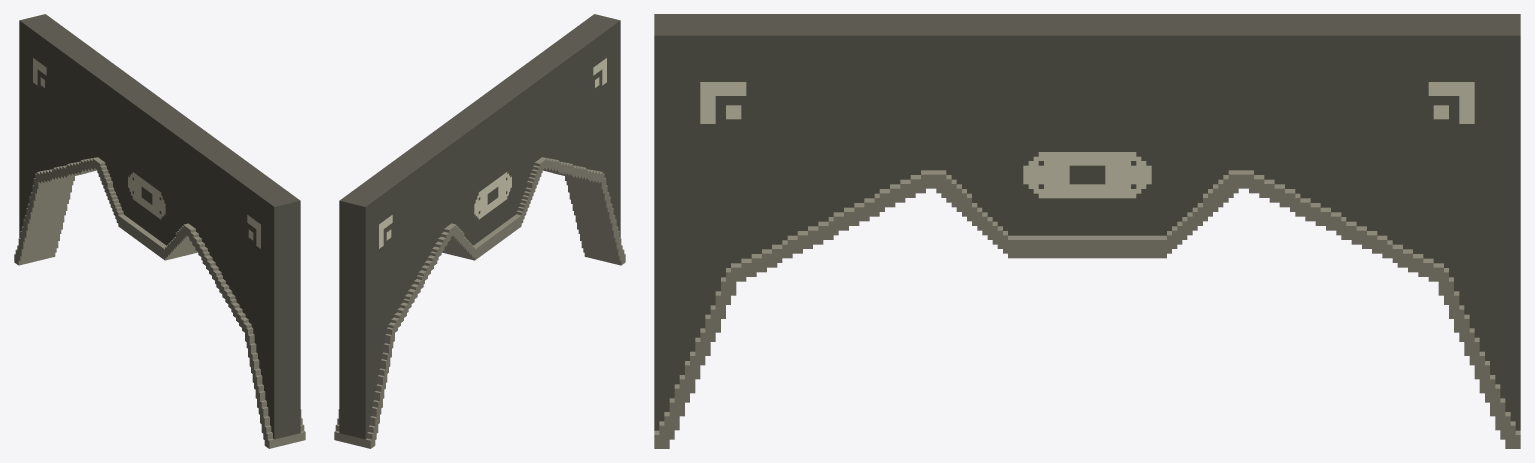
Rendered from factory4.2+-2-factory4.2-1.obj.
3 views of the same model, side by side, from view 1: azimuth 30°, elevation 25°; view 2: azimuth 150°, elevation 25°; view 3: azimuth 270°, elevation 25° (orthographic). The views are drawn at different scales.
Visible parts, largest first — view 1: factory4; view 2: factory4; view 3: factory4.
Boxes of the visible parts, x1,y1,x2,y2 form: factory4: [14, 14, 305, 448]; factory4: [334, 14, 625, 448]; factory4: [654, 14, 1520, 448].
Size of the model in its own units: 1.4 by 8.8 by 16.9.
Materials: 1 (1 with a texture image).
